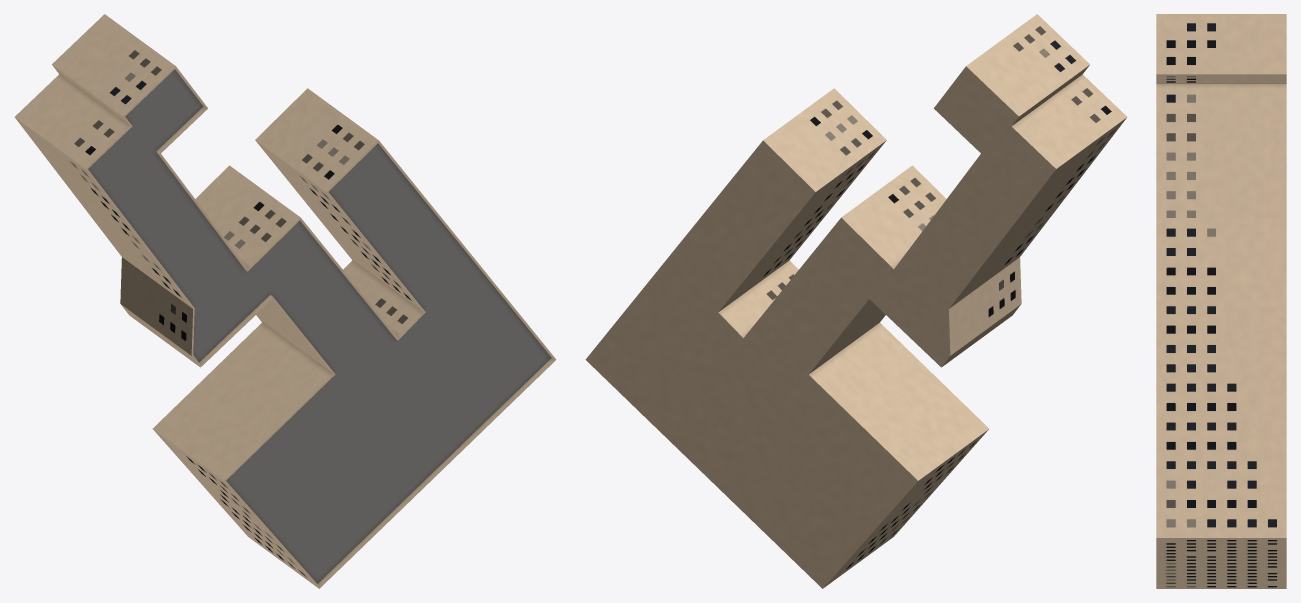
File: house_b0007.obj
The picture shows the model from 3 angles, left to right: view 1: azimuth 30°, elevation 25°; view 2: azimuth 150°, elevation 25°; view 3: azimuth 270°, elevation 25°; orthographic projection. The views are drawn at different scales.
Parts seen in each view (by area): view 1: house_b0007; view 2: house_b0007; view 3: house_b0007.
Part boxes in pixels (x1=…): house_b0007: x1=14, y1=14, x2=556, y2=588; house_b0007: x1=585, y1=14, x2=1127, y2=588; house_b0007: x1=1156, y1=14, x2=1286, y2=588.
Size of the model in its own units: 73.72 by 83.46 by 19.32.
Materials: 1 (1 with a texture image).
